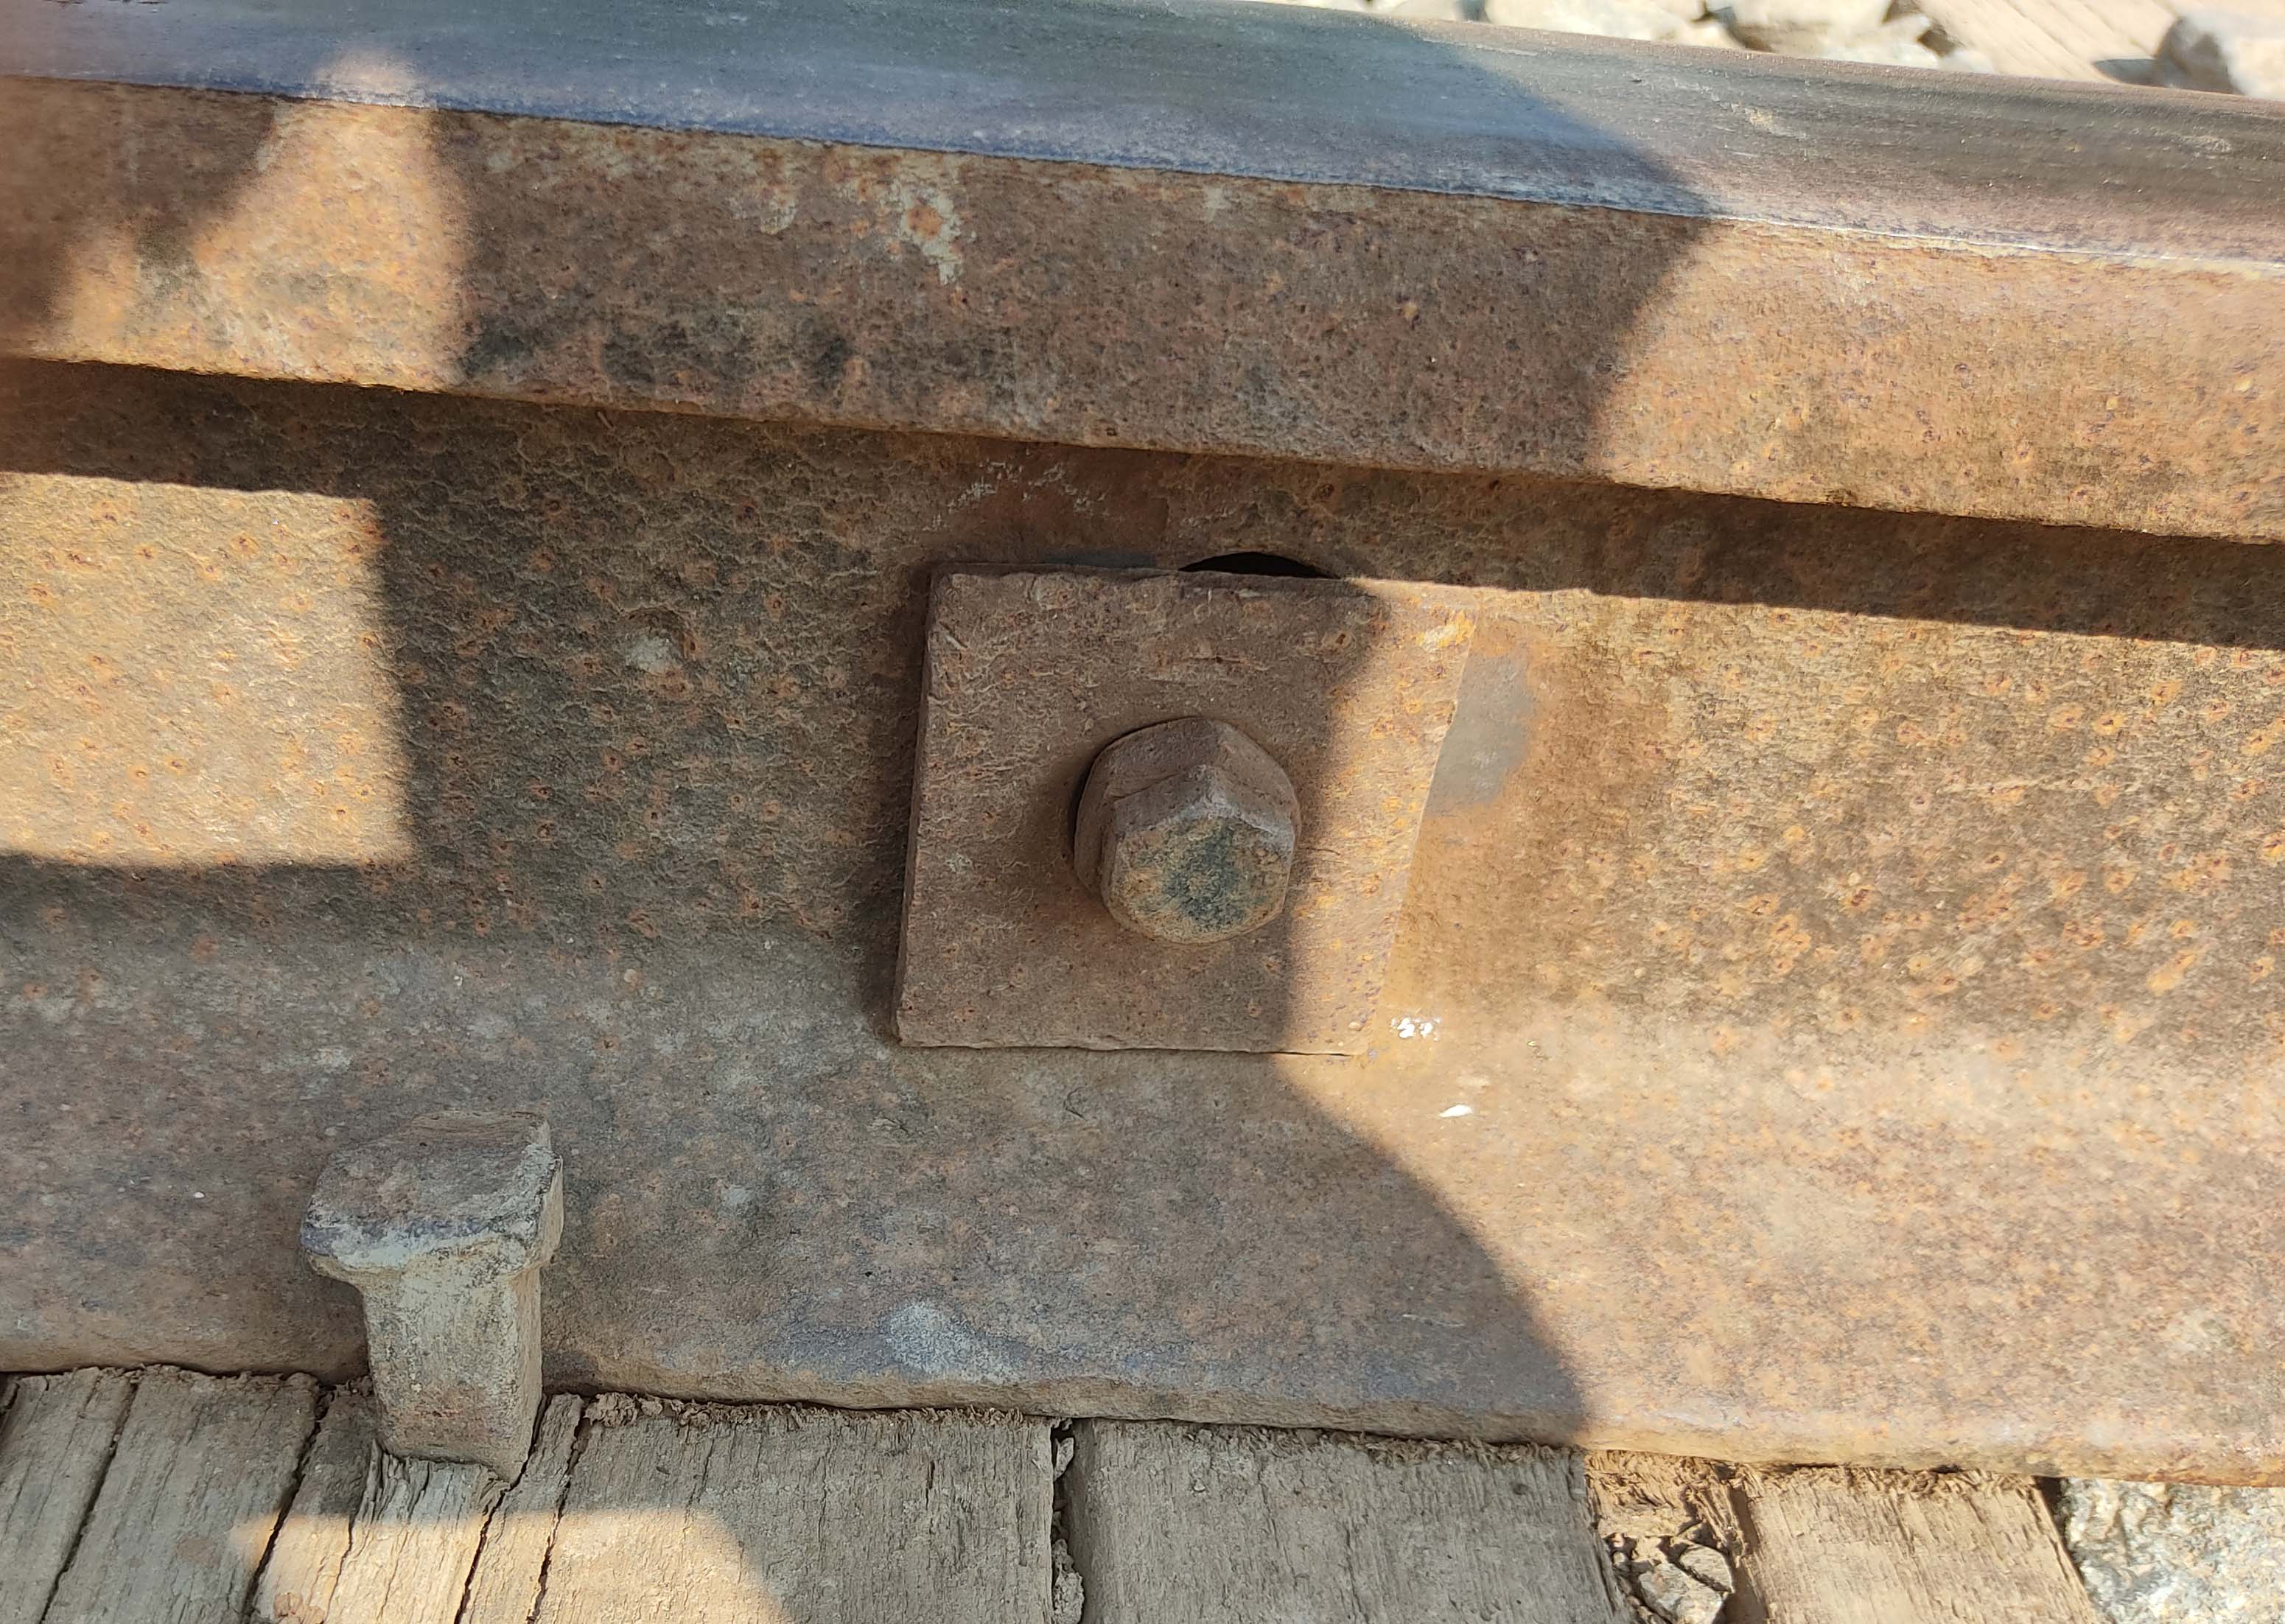error1: (251, 942, 661, 1571)
